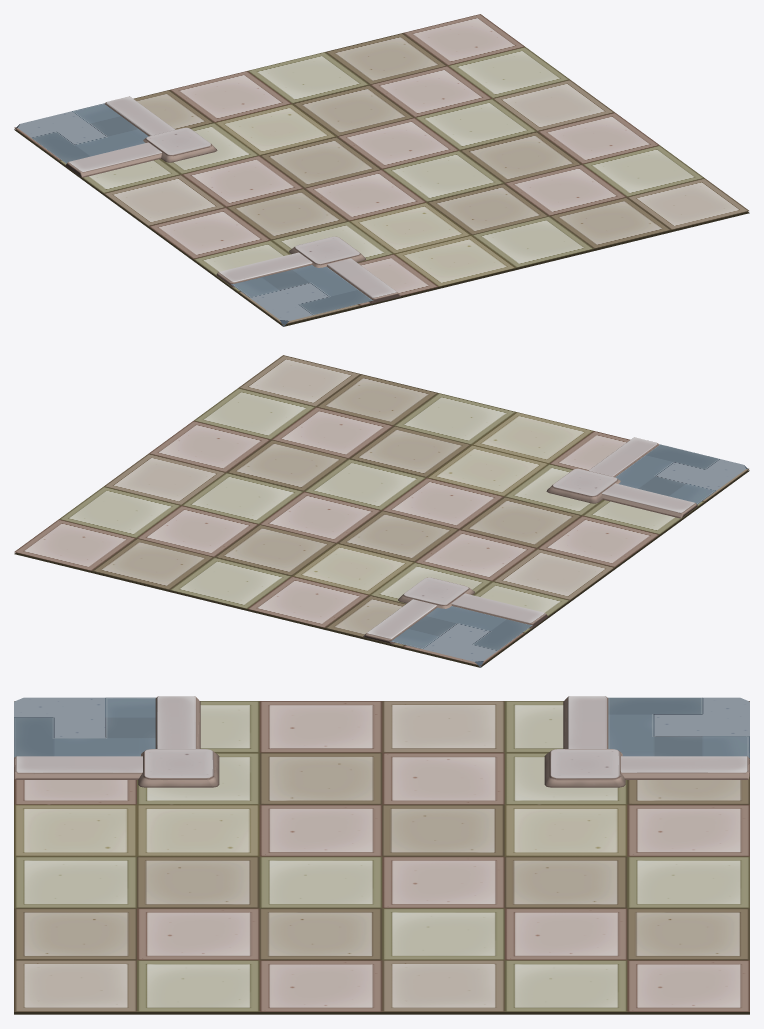
File: road_twoCorner.glb
The picture shows the model from 3 angles, top to bottom: view 1: azimuth 30°, elevation 25°; view 2: azimuth 150°, elevation 25°; view 3: azimuth 270°, elevation 25°; orthographic projection. The views are drawn at different scales.
Visible parts, largest first — view 1: road_09; view 2: road_09; view 3: road_09.
Part boxes in pixels (bbox=[...]): road_09: bbox=[14, 14, 749, 326]; road_09: bbox=[14, 355, 749, 667]; road_09: bbox=[14, 696, 749, 1014].
Size of what is drawn, in the model's own units: 16 by 0.2304 by 16.
Materials: 1 (1 with a texture image).
